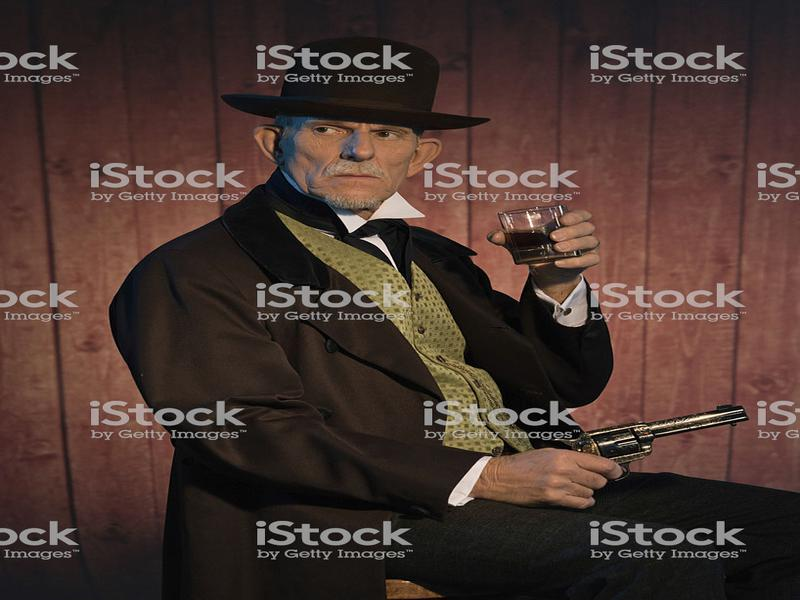Revolver: (558, 400, 751, 484)
